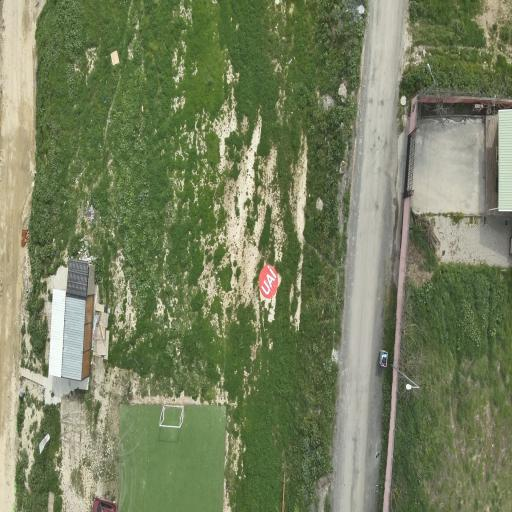UAI: (259, 265, 278, 299)
car: (93, 497, 117, 511)
